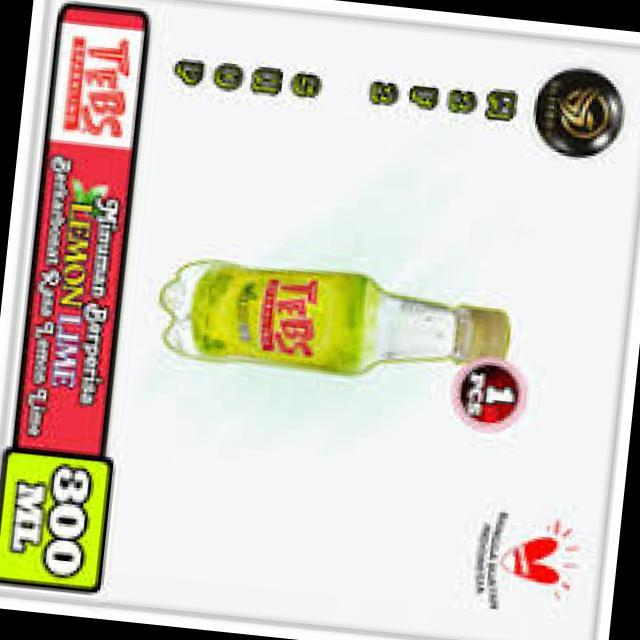good: (119, 224, 536, 433)
